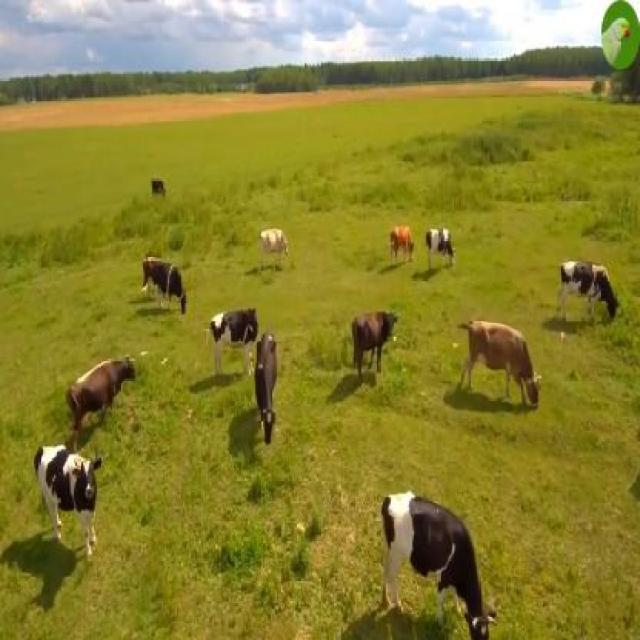Cow: (383, 492, 495, 638), (464, 318, 542, 414), (36, 446, 98, 566), (68, 352, 137, 440), (558, 258, 620, 338)
